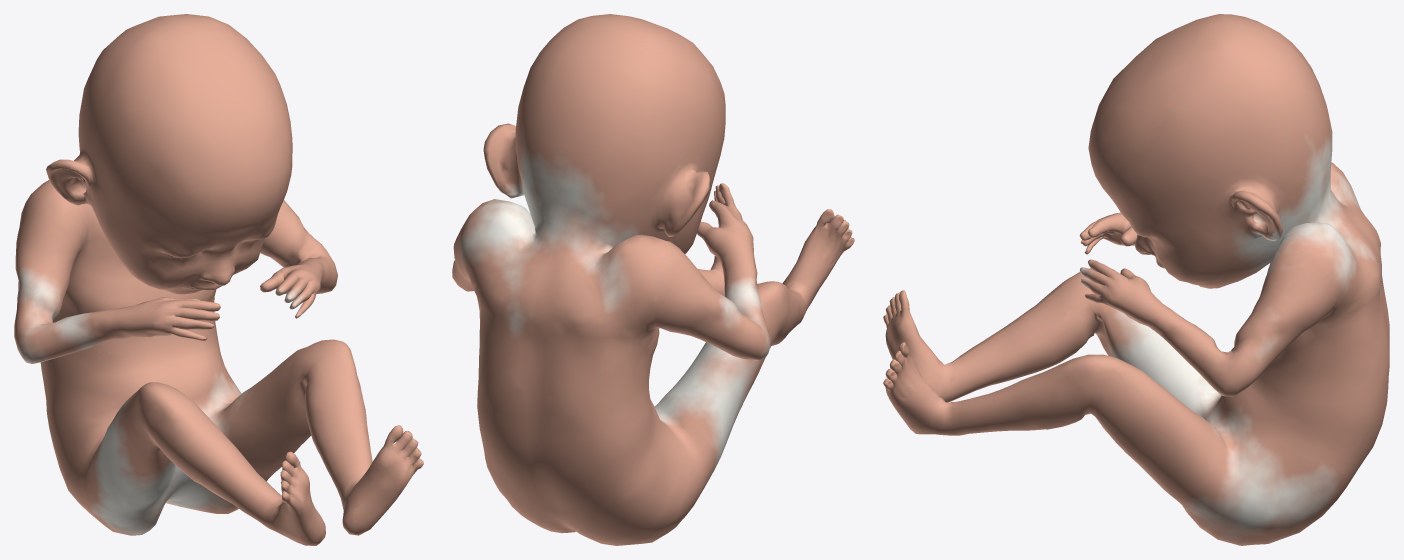
3 renders of one model, left to right at view 1: azimuth 30°, elevation 25°; view 2: azimuth 150°, elevation 25°; view 3: azimuth 270°, elevation 25°, orthographic.
Parts seen in each view (by area): view 1: Baby; view 2: Baby; view 3: Baby.
Part boxes in pixels (x1=…): Baby: x1=14, y1=14, x2=423, y2=545; Baby: x1=452, y1=14, x2=854, y2=545; Baby: x1=883, y1=14, x2=1389, y2=545.
Size of the model in its own units: 0.1899 by 0.2913 by 0.2681.
1 material, 1 textured.
